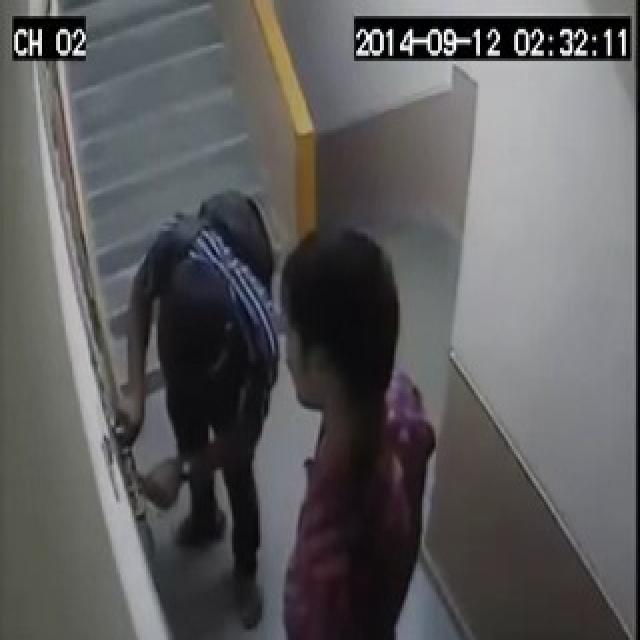thief: (99, 183, 272, 633), (275, 225, 445, 640)
